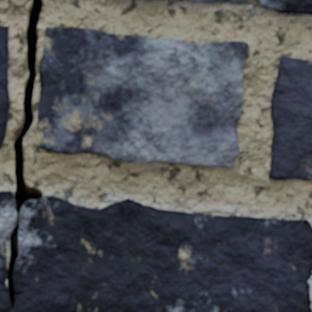brick: (36, 27, 247, 166), (269, 57, 311, 179), (0, 26, 8, 147), (149, 0, 164, 1)
broken_brick: (0, 195, 311, 311), (256, 0, 311, 14), (0, 190, 15, 235), (174, 0, 236, 3)
crack: (0, 0, 45, 309), (230, 0, 258, 6)
